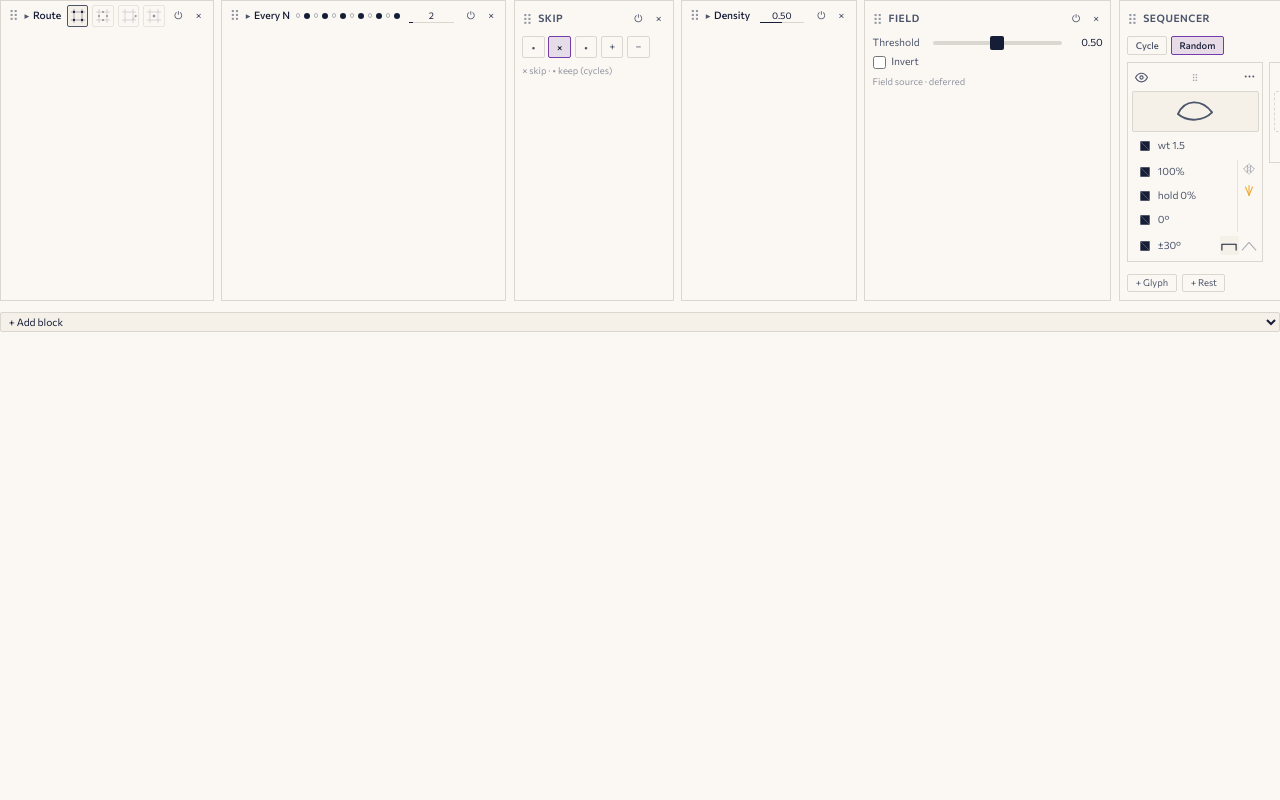
Scenario: MotifBlockRack — slot glyph-swap picker › clicking a slot preview opens the PICKER, not the pen editor
The image size is (1280, 800).
Click the button with test id "motif-slot-edit" at point(1195, 111), box top-left (1132, 91), bottom-right (1258, 132)
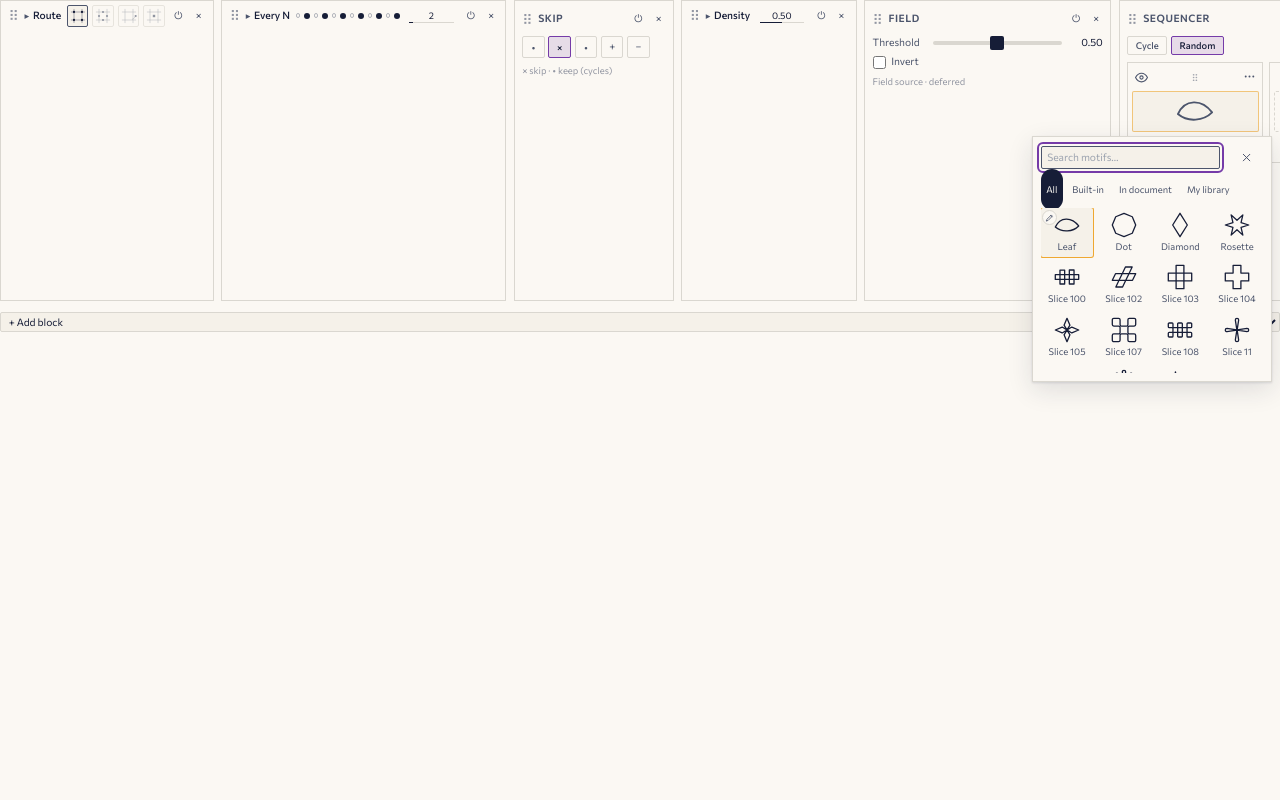
Expected: the dialog with test id "glyph-picker-flyout" is shown, top-left (1032, 136), bottom-right (1272, 382)
